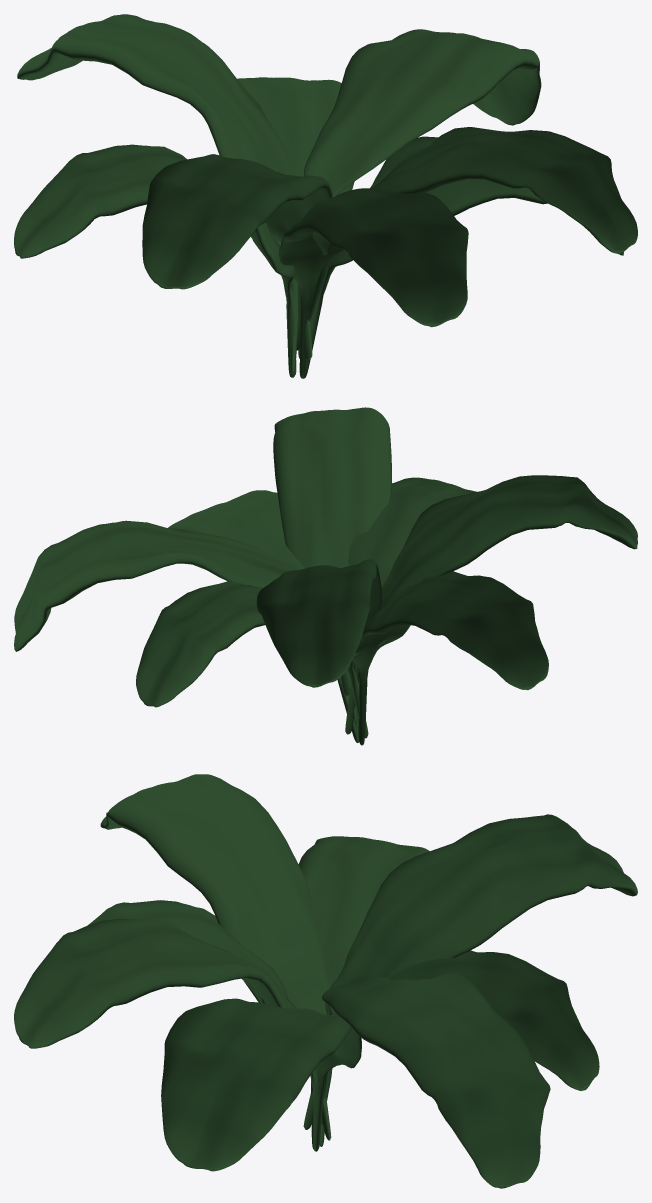
The model's file is Hoja multiple.fbx.
3 renders of one model, top to bottom at view 1: azimuth 30°, elevation 25°; view 2: azimuth 150°, elevation 25°; view 3: azimuth 270°, elevation 25°, orthographic. The views are drawn at different scales.
Parts seen in each view (by area): view 1: Hoja8, Hoja, Hoja6, Hoja9, Hoja7, Hoja4, Hoja5, Hoja3; view 2: Hoja7, Hoja6, Hoja8, Hoja4, Hoja9, Hoja5, Hoja, Hoja3; view 3: Hoja8, Hoja9, Hoja6, Hoja3, Hoja7, Hoja5, Hoja4, Hoja.
Boxes of the visible parts, x1=… form: Hoja8: x1=304, y1=29, x2=541, y2=196; Hoja: x1=279, y1=186, x2=468, y2=378; Hoja6: x1=142, y1=154, x2=332, y2=358; Hoja9: x1=17, y1=14, x2=312, y2=359; Hoja7: x1=296, y1=127, x2=637, y2=350; Hoja4: x1=14, y1=144, x2=296, y2=377; Hoja5: x1=237, y1=77, x2=354, y2=373; Hoja3: x1=299, y1=136, x2=623, y2=378; Hoja7: x1=273, y1=407, x2=391, y2=723; Hoja6: x1=345, y1=475, x2=637, y2=734; Hoja8: x1=14, y1=520, x2=349, y2=695; Hoja4: x1=352, y1=571, x2=548, y2=745; Hoja9: x1=256, y1=559, x2=382, y2=687; Hoja5: x1=136, y1=581, x2=368, y2=738; Hoja: x1=348, y1=477, x2=477, y2=742; Hoja3: x1=168, y1=490, x2=358, y2=742; Hoja8: x1=322, y1=972, x2=550, y2=1188; Hoja9: x1=303, y1=814, x2=637, y2=1129; Hoja6: x1=100, y1=774, x2=331, y2=1140; Hoja3: x1=161, y1=998, x2=361, y2=1171; Hoja7: x1=14, y1=918, x2=322, y2=1124; Hoja5: x1=326, y1=950, x2=599, y2=1100; Hoja4: x1=298, y1=836, x2=429, y2=1146; Hoja: x1=87, y1=900, x2=313, y2=1149.
Size of the model in its own units: 3.45 by 1.67 by 3.33.
